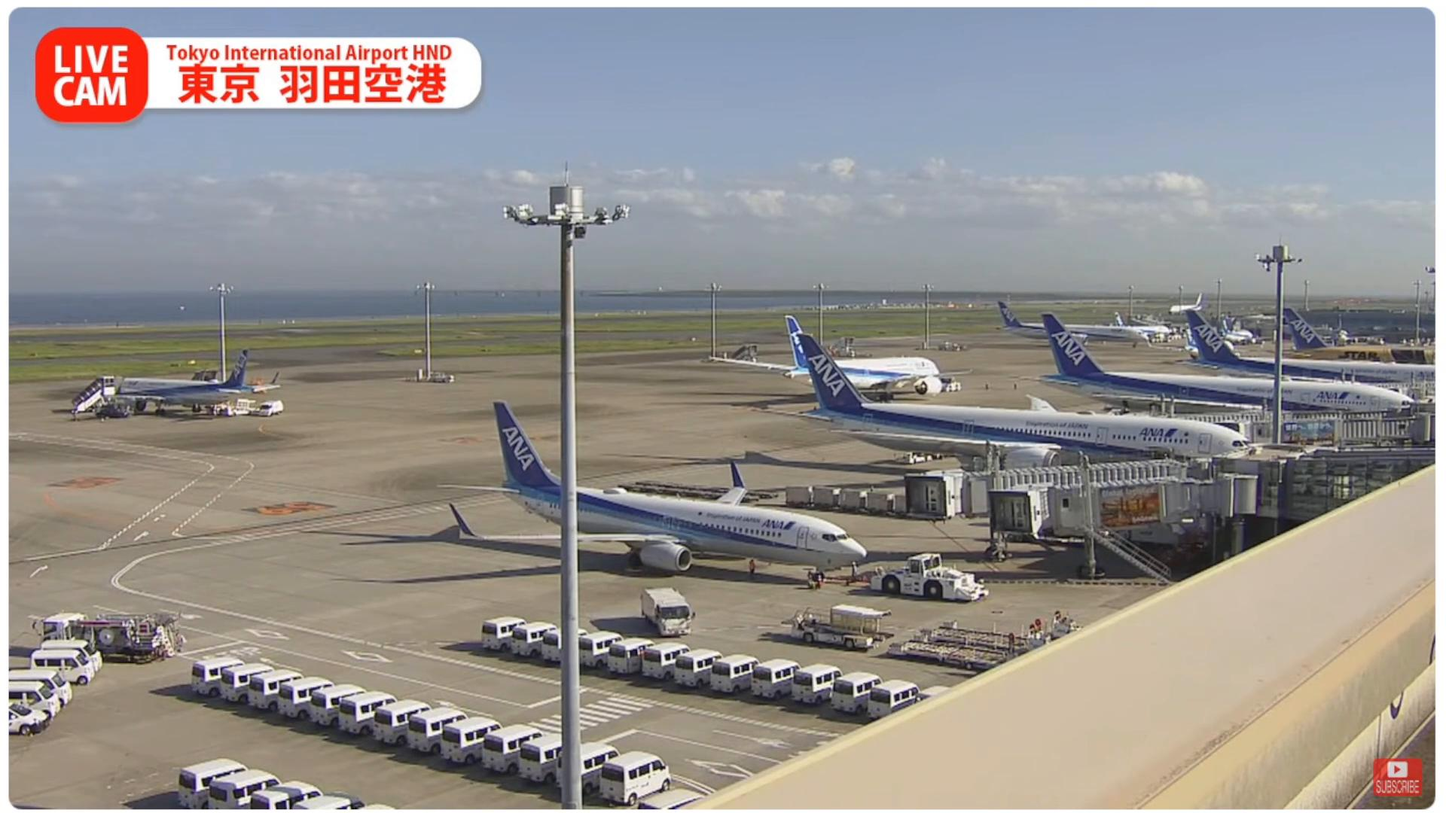APS: (871, 557, 989, 603)
Aerobridge: (904, 443, 1220, 528), (991, 451, 1256, 537)
Airplane: (438, 402, 868, 589)
Baggage truck: (640, 588, 694, 637)
JCPL: (918, 616, 1075, 656), (890, 639, 1018, 670)
Skyloader: (793, 603, 894, 653)
Window: (1290, 445, 1435, 519)
